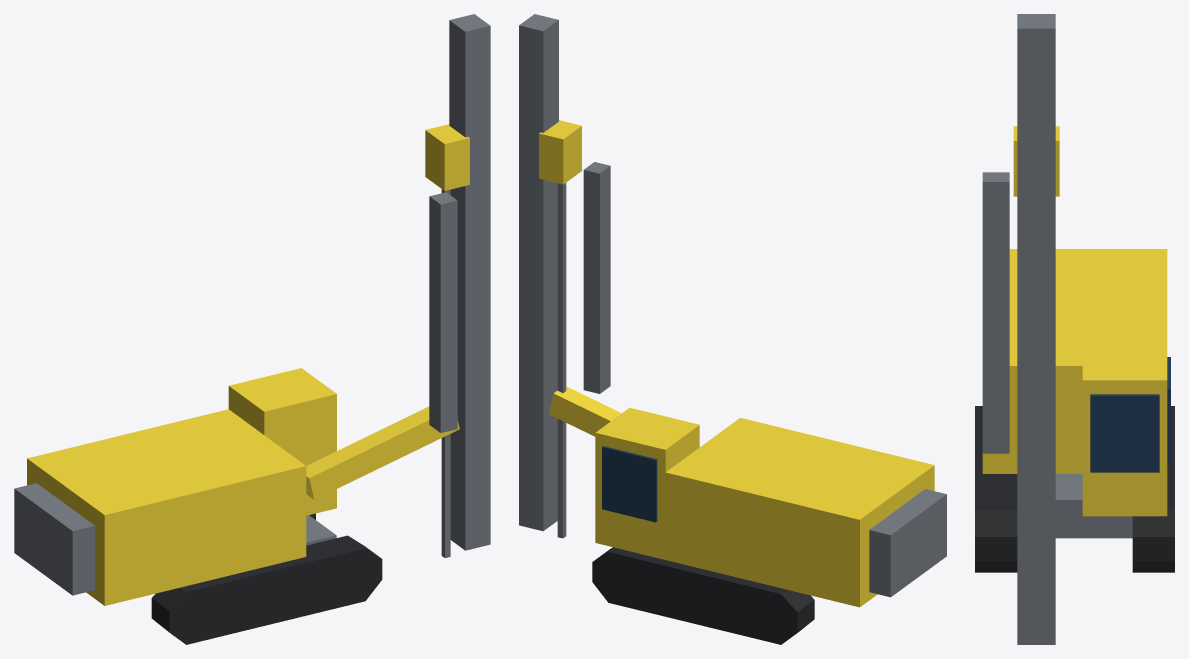
The model's file is site_drill.fbx.
3 views of the same model, side by side, from view 1: azimuth 30°, elevation 25°; view 2: azimuth 150°, elevation 25°; view 3: azimuth 270°, elevation 25° (orthographic). The views are drawn at different scales.
Visible parts, largest first — view 1: a1022/0/site_drill; view 2: a1022/0/site_drill; view 3: a1022/0/site_drill.
Boxes of the visible parts, box(x1,y1,x2,y2) form: a1022/0/site_drill: box(14, 14, 490, 644); a1022/0/site_drill: box(519, 14, 946, 644); a1022/0/site_drill: box(975, 14, 1174, 644).
Size of the model in its own units: 7.55 by 9 by 2.6.
